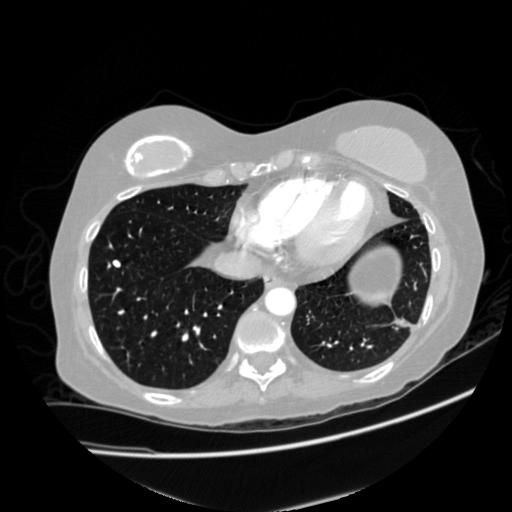nodule: (108, 256, 124, 272)
